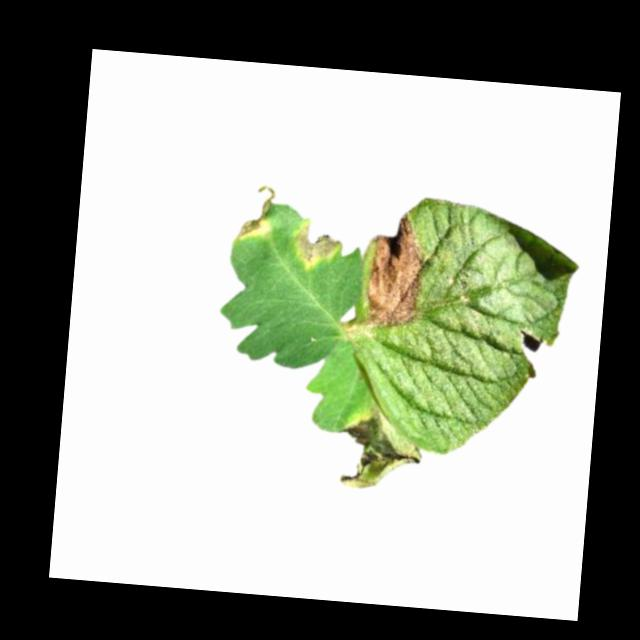Late_blight: (336, 403, 428, 495), (363, 211, 430, 331), (234, 182, 278, 246), (293, 218, 341, 274)
